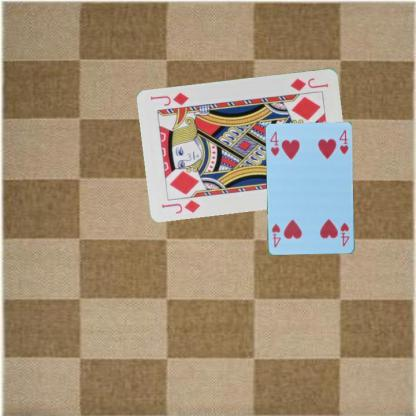4h: (267, 130, 281, 157), (338, 220, 351, 248)
Jd: (159, 196, 202, 215), (288, 75, 330, 92)
